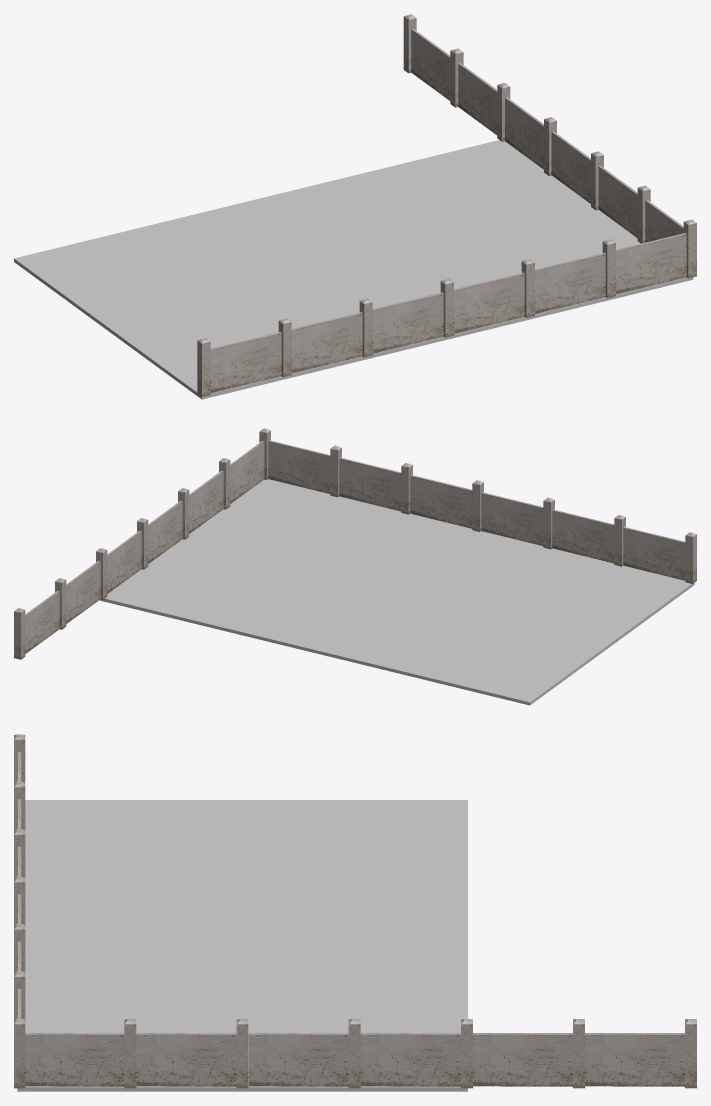
File: Exterior.FBX
3 views of the same model, one above another, from view 1: azimuth 30°, elevation 25°; view 2: azimuth 150°, elevation 25°; view 3: azimuth 270°, elevation 25° (orthographic). The views are drawn at different scales.
Parts seen in each view (by area): view 1: Exterior, walls; view 2: Exterior, walls; view 3: Exterior, walls.
Boxes of the visible parts, x1=… form: Exterior: x1=14, y1=140, x2=693, y2=399; walls: x1=197, y1=14, x2=696, y2=396; Exterior: x1=99, y1=479, x2=694, y2=705; walls: x1=14, y1=428, x2=696, y2=659; Exterior: x1=17, y1=800, x2=467, y2=1091; walls: x1=14, y1=734, x2=696, y2=1088.
Size of the model in its own units: 2428 by 275 by 2422.
